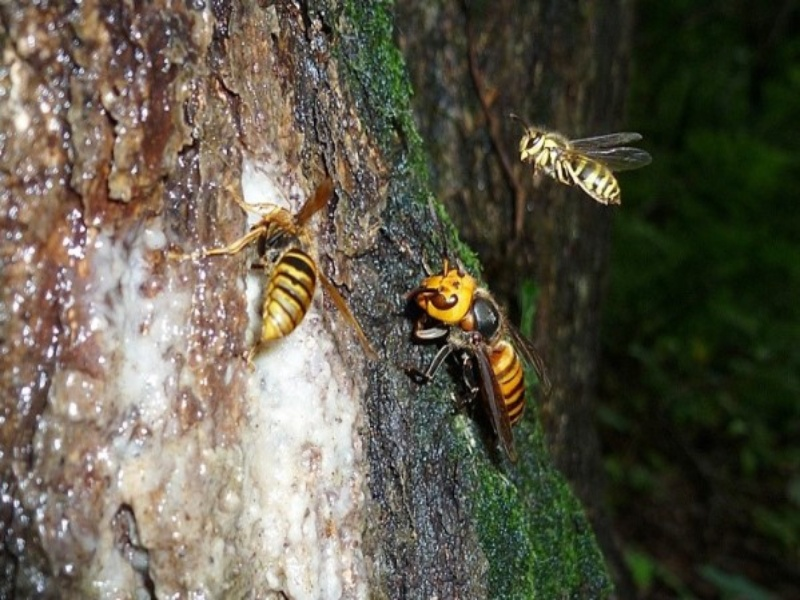asian_giant_hornet: (383, 213, 566, 468), (190, 165, 373, 346)
